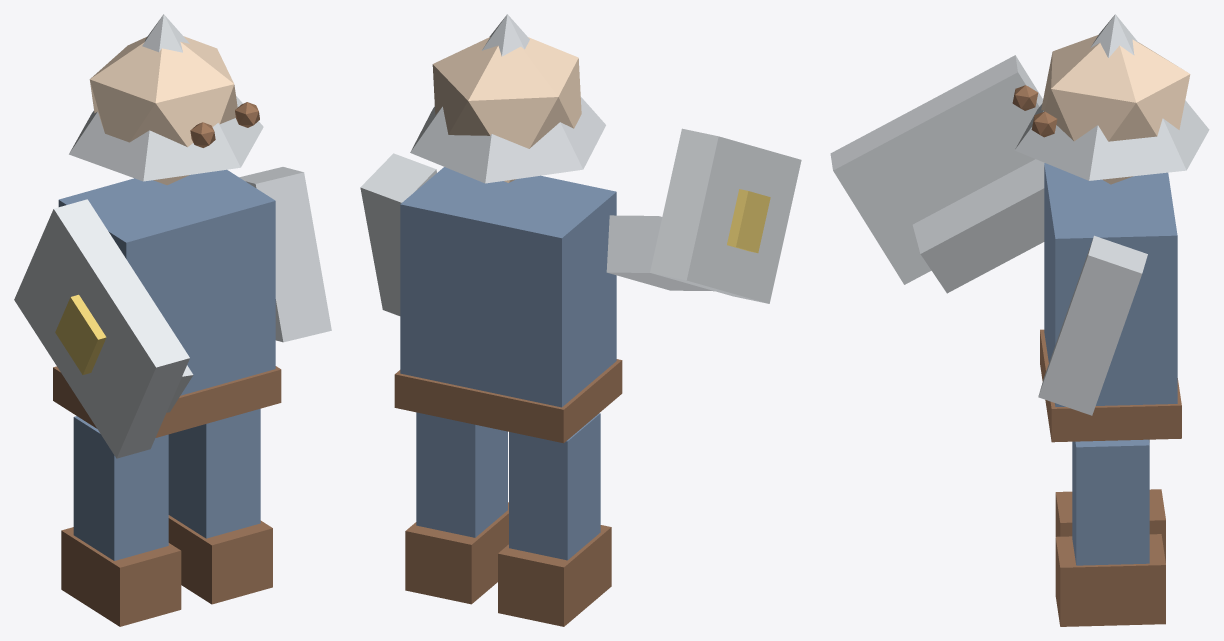
The model's file is npcpose_guard_idle_01.glb.
3 renders of one model, left to right at view 1: azimuth 30°, elevation 25°; view 2: azimuth 150°, elevation 25°; view 3: azimuth 270°, elevation 25°, orthographic.
Parts seen in each view (by area): view 1: npcpose; view 2: npcpose; view 3: npcpose.
Part boxes in pixels (x1,y1,x2,y2): npcpose: [14, 14, 331, 626]; npcpose: [360, 14, 801, 626]; npcpose: [830, 14, 1209, 626].
Bounding box in the file's own units: 0.8585 × 1.55 × 0.929.
